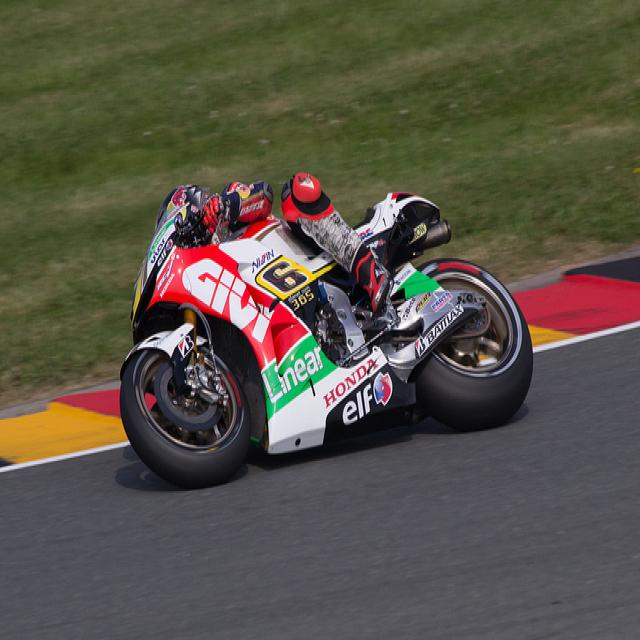motor: (119, 178, 536, 486)
